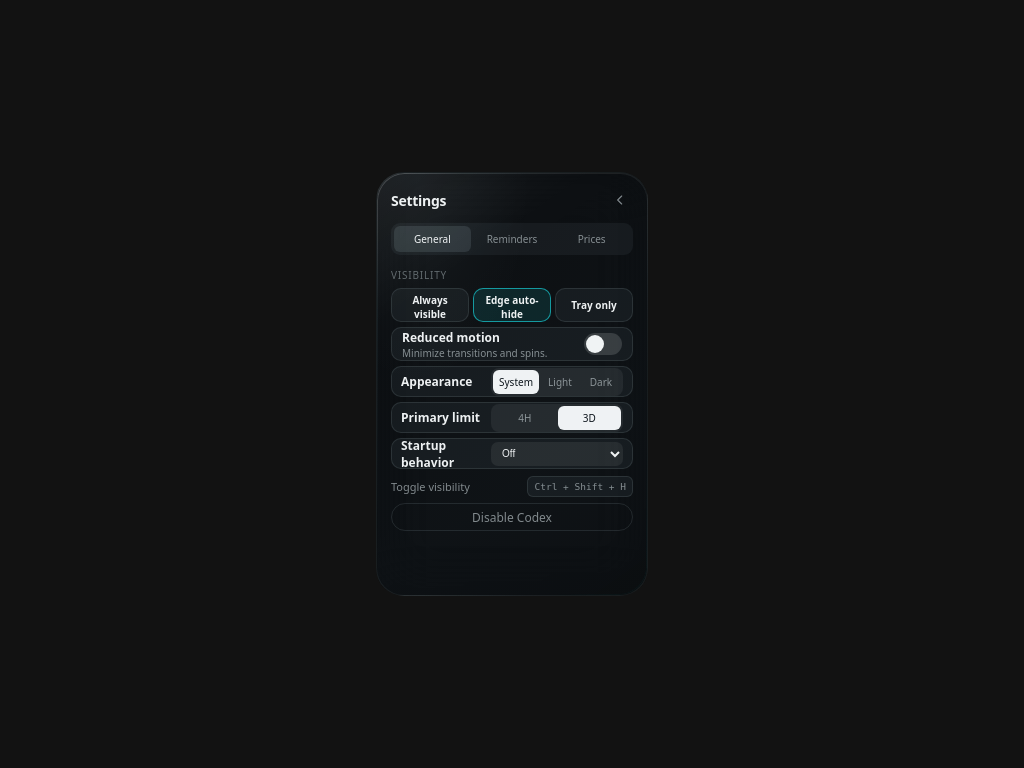
Scenario: SettingsSheet › bounds reminder lead and restores an empty draft
Click the button "Reminders" at (512, 239), box [474, 226, 550, 252]
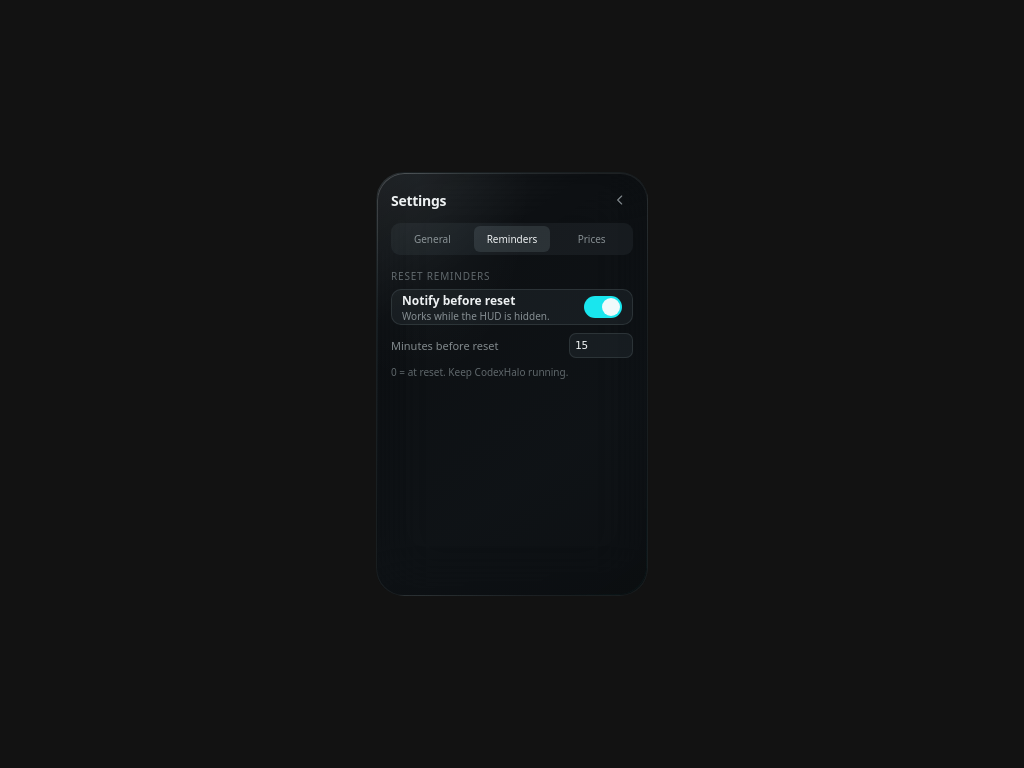
Replace the text in the number field labelled "Minutes before reset" with "99999" at (601, 346), box [569, 333, 633, 358]
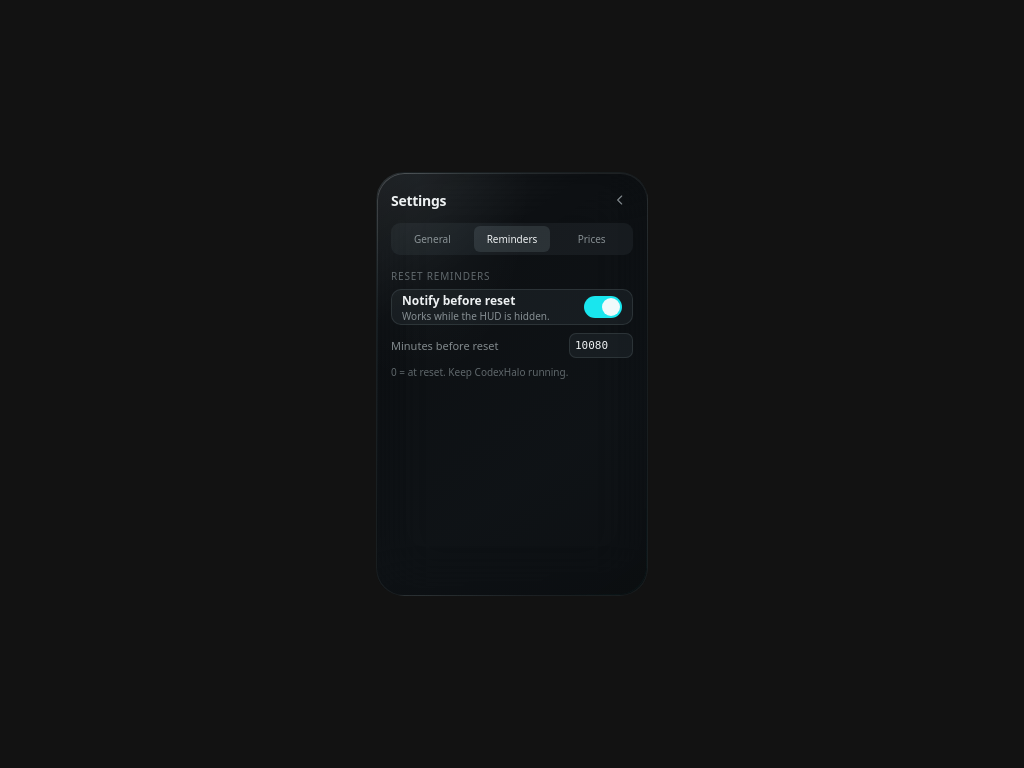
Clear the number field labelled "Minutes before reset" at (601, 346), box [569, 333, 633, 358]
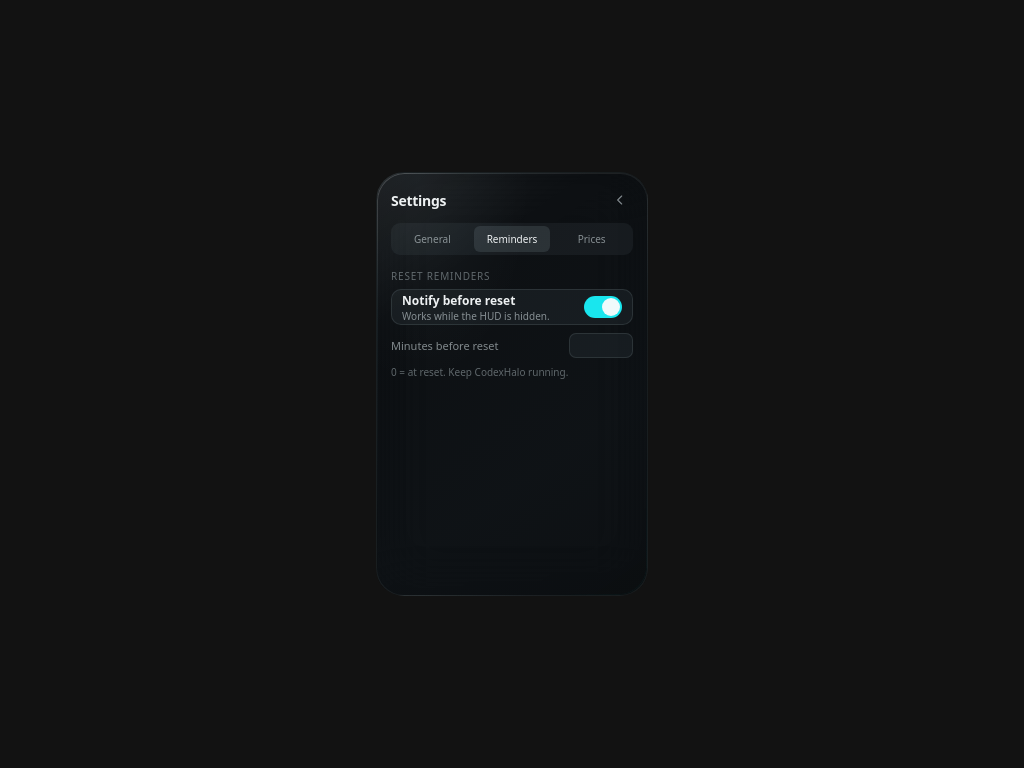
Leave the number field labelled "Minutes before reset", box [569, 333, 633, 358]
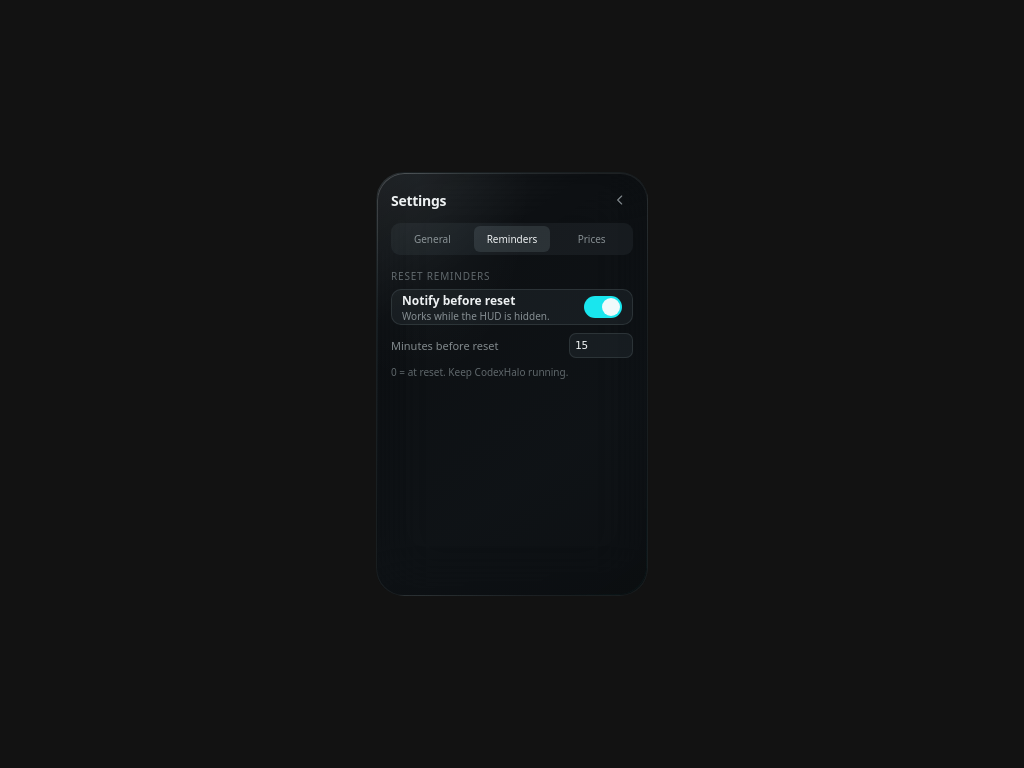
Now the number field labelled "Minutes before reset" holds "15", box [569, 333, 633, 358]
